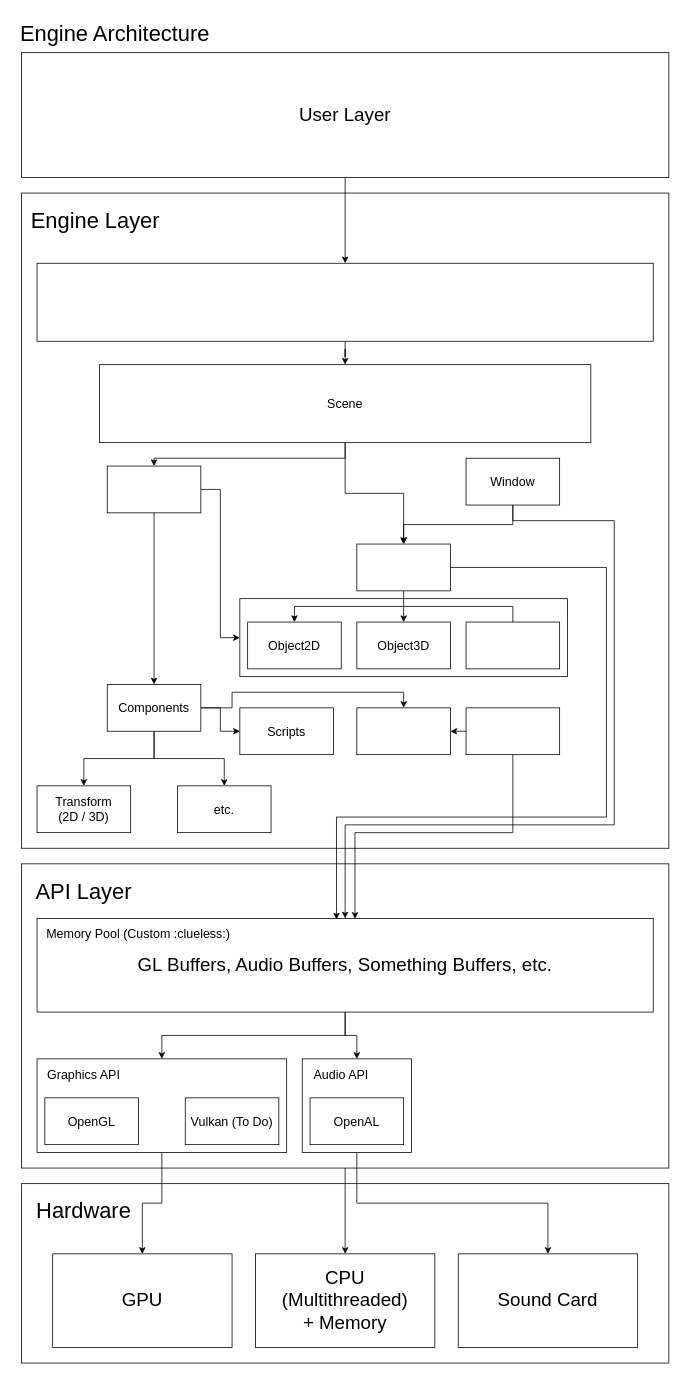
The diagram is 683 pixels wide and 1377 high, and some of its shapes have lost their labels. The shapes that lost their labels are listed below. From the top down, each one's centre as x and y in pixels, then its label:
the point at 344,301: Engine API
the point at 153,489: Objects
the point at 403,567: Renderer
the point at 512,645: Custom Render Object
the point at 403,731: Audio Abstraction
the point at 512,731: Audio Device
